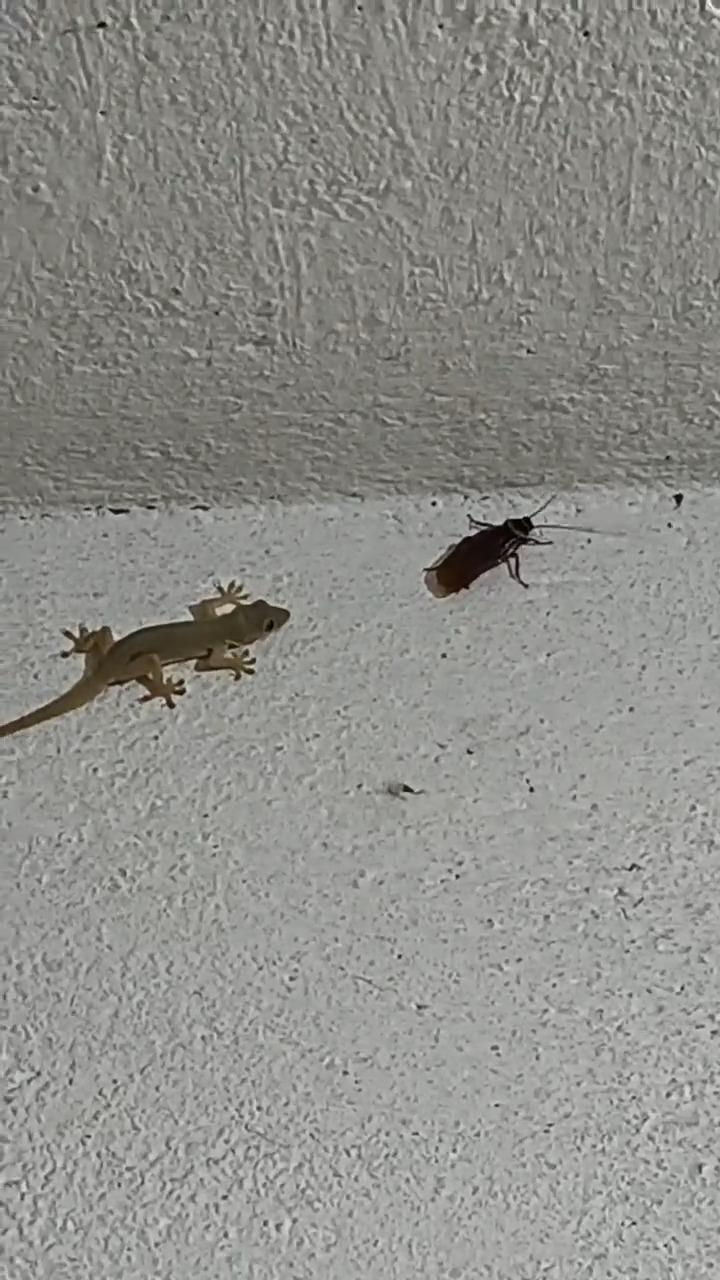cockroach: (408, 488, 589, 606)
lizard: (0, 563, 305, 772)
